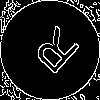R: (25, 25, 82, 83)
